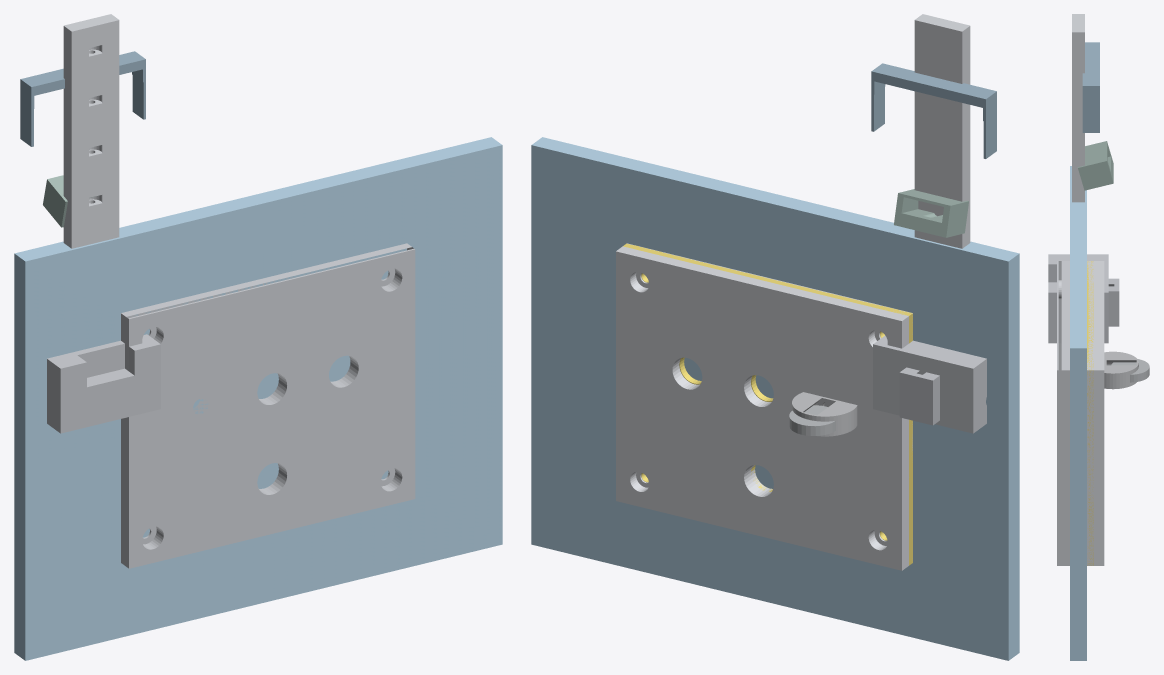
Rendered from iAqua_SensorMounts.glb.
3 renders of one model, left to right at view 1: azimuth 30°, elevation 25°; view 2: azimuth 150°, elevation 25°; view 3: azimuth 270°, elevation 25°, orthographic. The views are drawn at different scales.
Parts seen in each view (by area): view 1: GlassPanel, Bulkhead_Inner, VerticalRail, RimClip_Base, Mount_SR04, Mount_BH1750; view 2: GlassPanel, Bulkhead_Outer, VerticalRail, RimClip_Base, Mount_SR04, DrillGuide, Mount_BH1750, RimClip_Jaw, Gland_Body_6mm, Gland_Ring_6mm; view 3: GlassPanel, Bulkhead_Outer, Bulkhead_Inner, VerticalRail, RimClip_Base, Mount_SR04, Mount_BH1750, DrillGuide, Gland_Body_6mm, RimClip_Jaw, Gland_Ring_6mm.
Boxes of the visible parts, bbox=[...] form: GlassPanel: bbox=[14, 137, 502, 660]; Bulkhead_Inner: bbox=[121, 243, 415, 568]; VerticalRail: bbox=[63, 14, 119, 248]; RimClip_Base: bbox=[47, 334, 160, 433]; Mount_SR04: bbox=[20, 51, 145, 146]; Mount_BH1750: bbox=[43, 175, 98, 227]; GlassPanel: bbox=[531, 137, 1019, 660]; Bulkhead_Outer: bbox=[616, 243, 912, 570]; VerticalRail: bbox=[914, 14, 970, 248]; RimClip_Base: bbox=[873, 335, 986, 433]; Mount_SR04: bbox=[871, 63, 996, 158]; DrillGuide: bbox=[623, 243, 912, 565]; Mount_BH1750: bbox=[894, 189, 968, 237]; RimClip_Jaw: bbox=[899, 367, 939, 425]; Gland_Body_6mm: bbox=[792, 392, 857, 436]; Gland_Ring_6mm: bbox=[789, 405, 835, 435]; GlassPanel: bbox=[1070, 166, 1086, 660]; Bulkhead_Outer: bbox=[1087, 261, 1104, 565]; Bulkhead_Inner: bbox=[1057, 261, 1069, 565]; VerticalRail: bbox=[1072, 14, 1084, 202]; RimClip_Base: bbox=[1048, 254, 1108, 343]; Mount_SR04: bbox=[1082, 42, 1099, 132]; Mount_BH1750: bbox=[1077, 141, 1113, 190]; DrillGuide: bbox=[1087, 261, 1093, 565]; Gland_Body_6mm: bbox=[1104, 351, 1138, 389]; RimClip_Jaw: bbox=[1108, 278, 1119, 326]; Gland_Ring_6mm: bbox=[1111, 359, 1149, 382].
Bounding box in the file's own units: 200 × 247 × 47.
